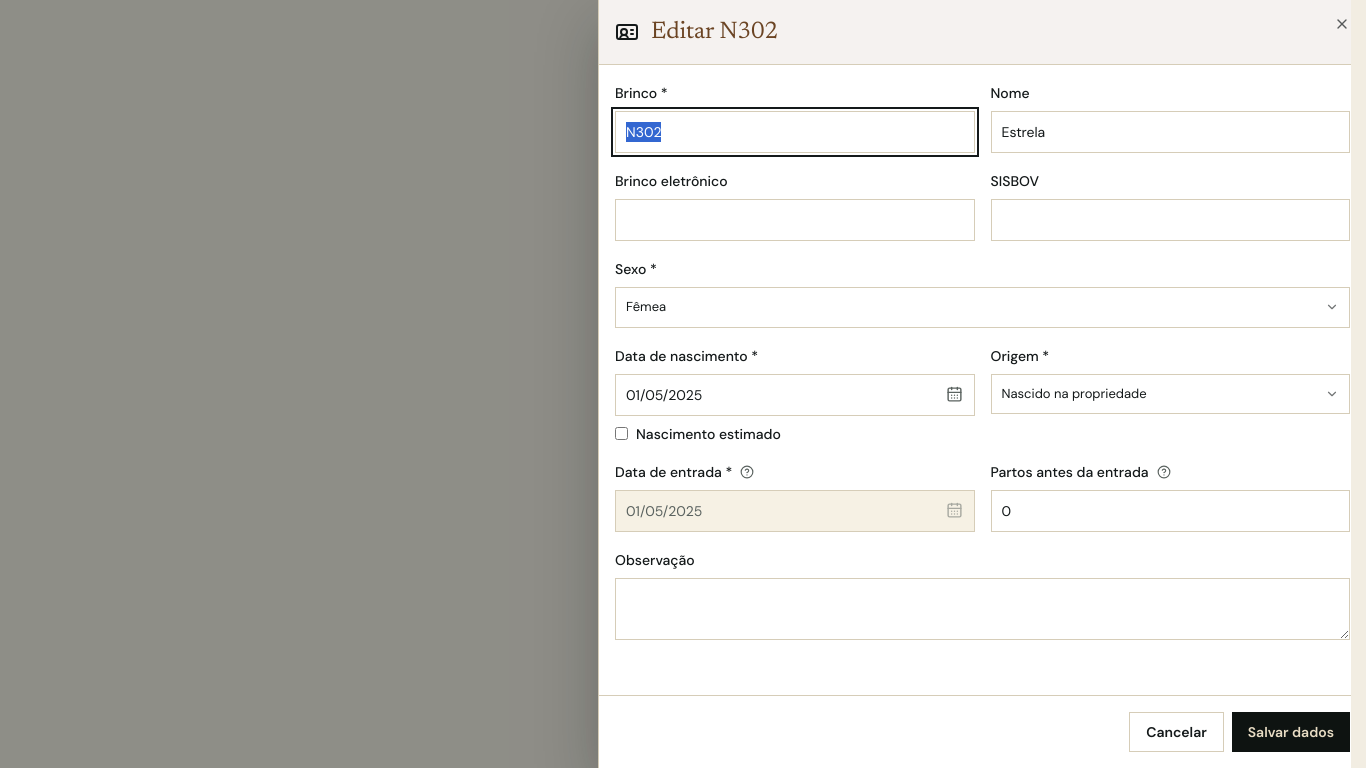
Test: mostra no campo Sexo a recusa de trocar o sexo de uma mãe
This screenshot has width=1366, height=768.
Click the dropdown named "Sexo". click: (646, 306)
box: [615,287,1350,328]
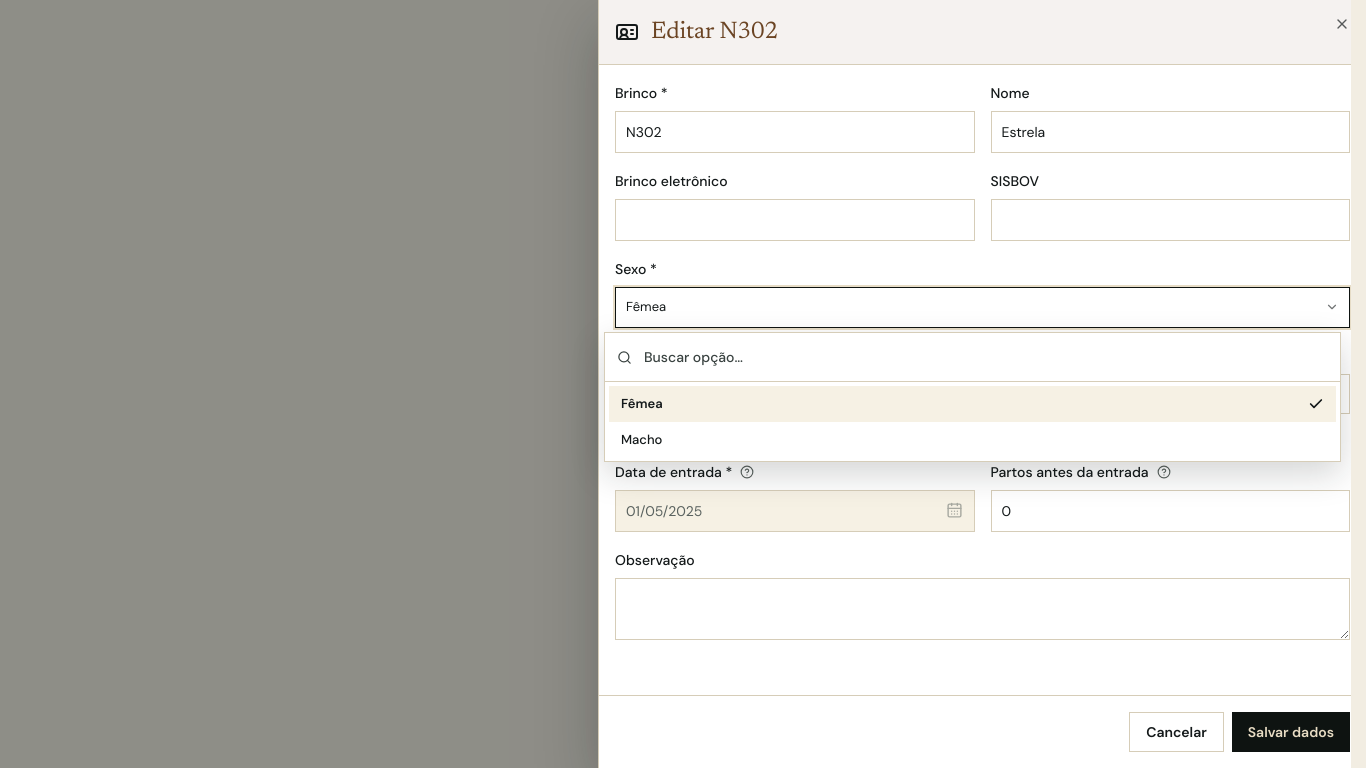
Click the option "Macho". click: (642, 439)
box: [621,430,662,448]
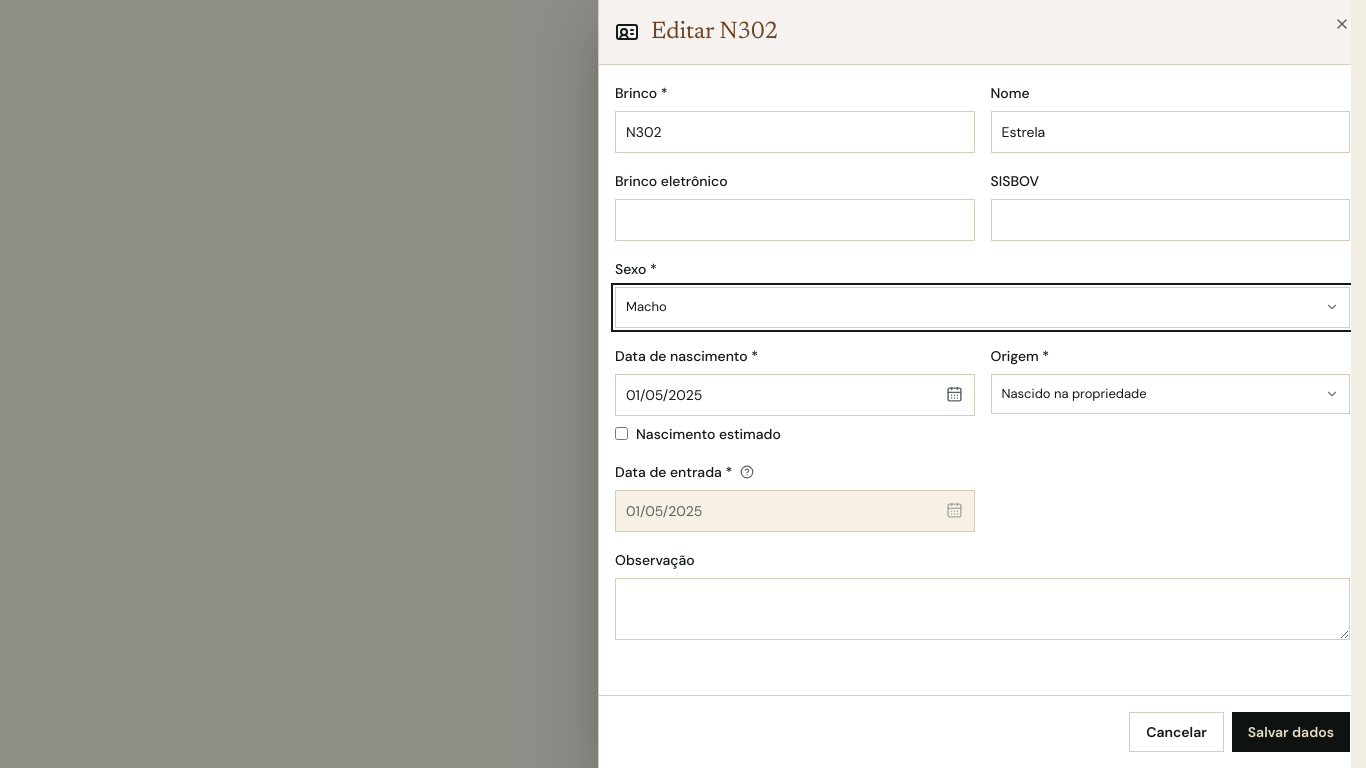
Click the button "Salvar dados". click: (1291, 732)
box: [1232,712,1350,752]
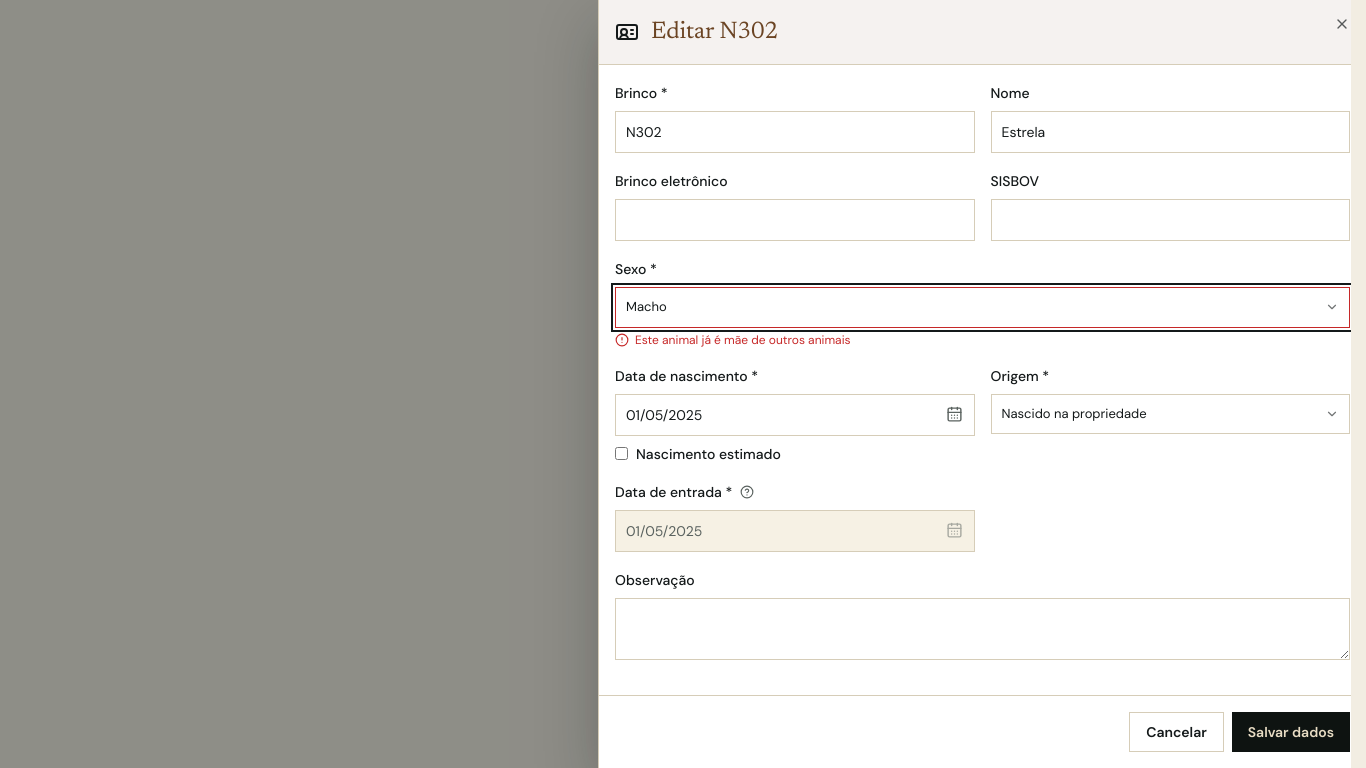
expect the message reads "Este animal já é mãe de outros animais": met, box [635,332,850,348]
